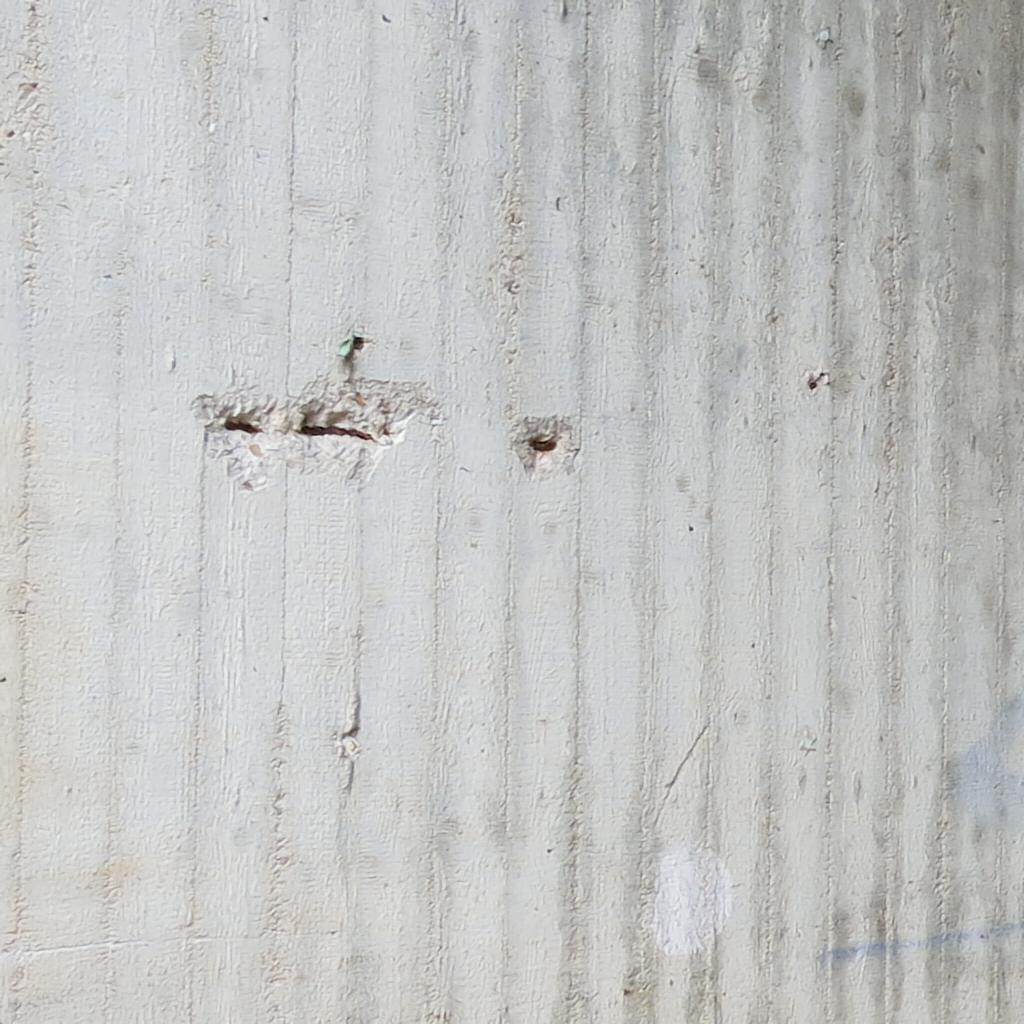exposed_rebar: (300, 424, 374, 439), (224, 420, 262, 433), (530, 436, 558, 452)
spalling: (196, 380, 438, 489), (514, 418, 578, 473)
